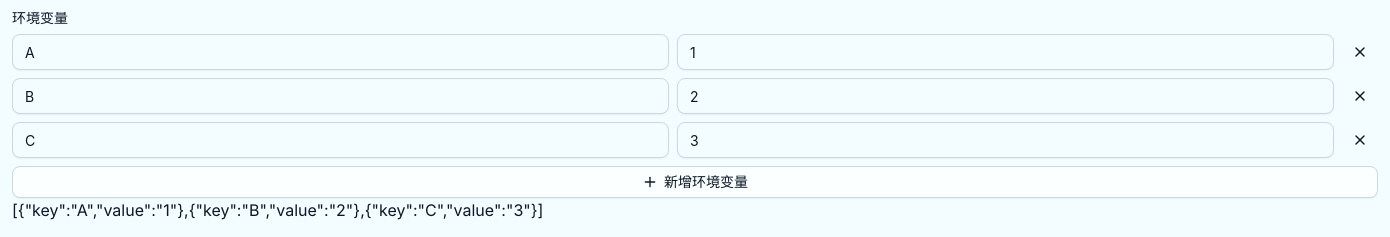
KeyValueField › 行 ID 稳定性 › 先删除中间行再编辑剩余行，react-hook-form key 不串行
Step 1. Click the button named "删除" → (1360, 96), box 1342,78 -> 1378,114
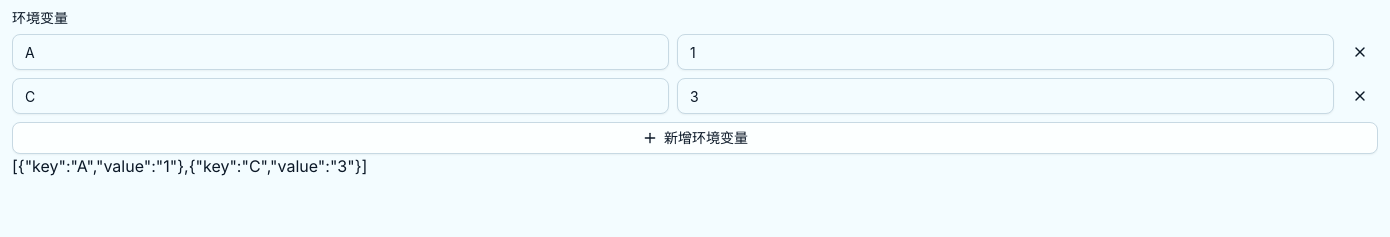
Step 2. Replace the text in the field with placeholder "填写变量值" with "X" → (1006, 52), box 677,34 -> 1334,70
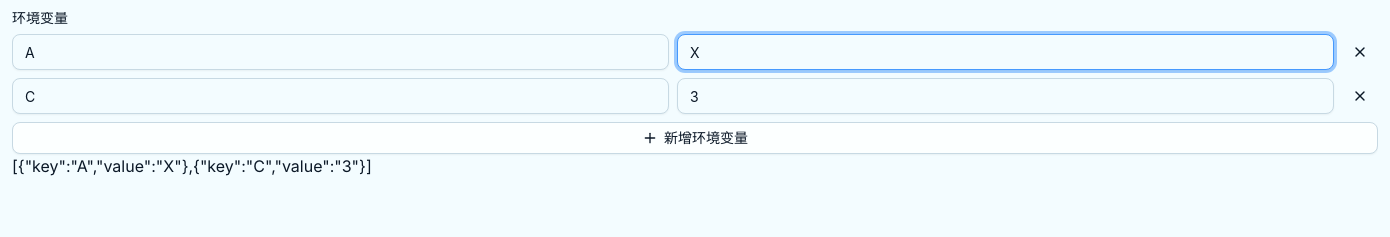
Expected: the text with test id "env" reads "[{\"key\":\"A\",\"value\":\"X\"},{\"key\":\"C\",\"value\":\"3\"}]", 12,156 -> 372,176
